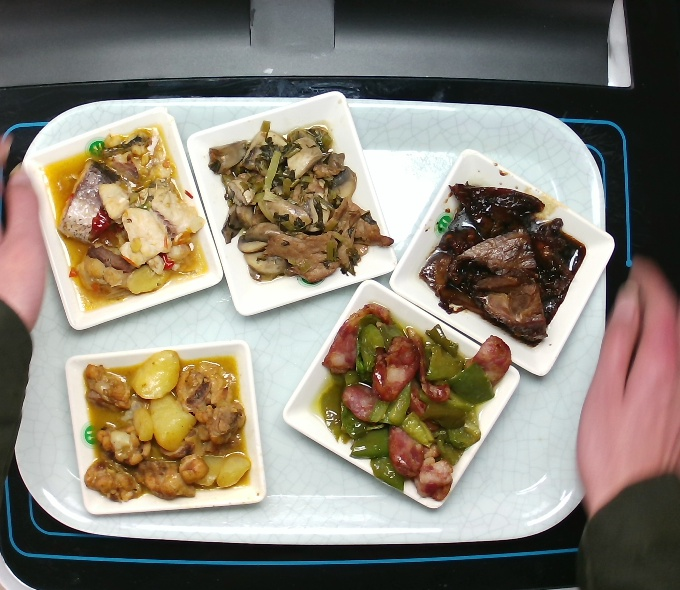wcq-JiangZhiYa: (416, 182, 587, 349)
wcq-MoGuRouPian: (206, 117, 396, 284)
wcq-QingJiaoXiangChang: (318, 301, 513, 501)
wcq-SuanCaiYu: (42, 122, 213, 309)
wcq-TuDouJiKuai: (80, 349, 252, 500)
